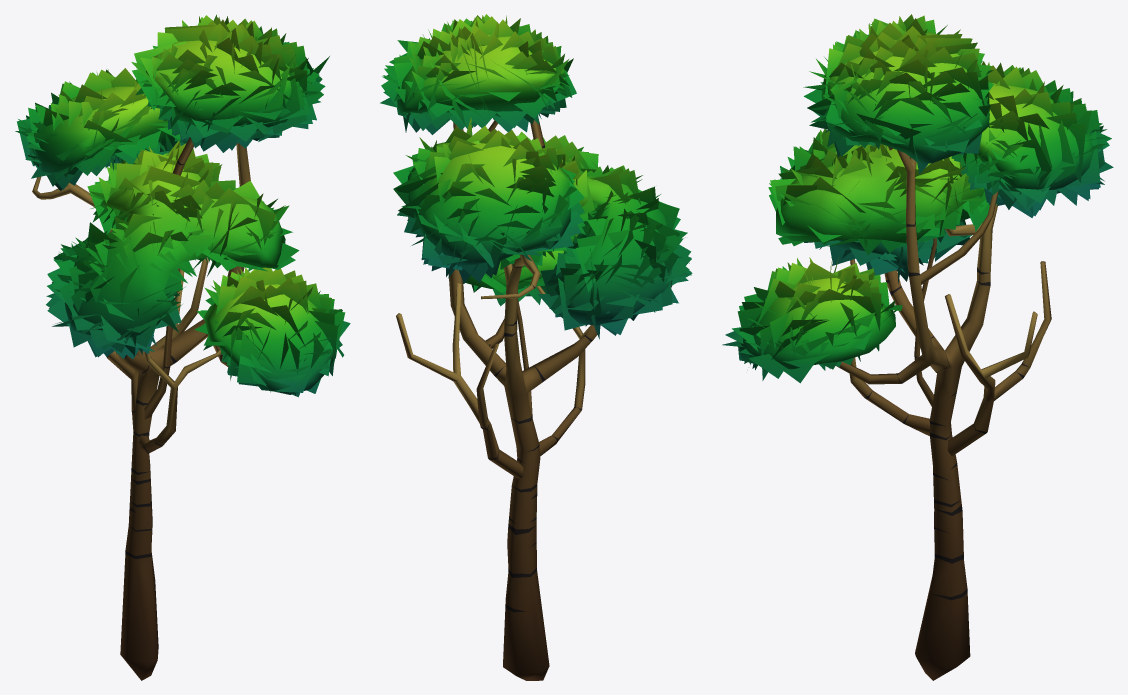
Rendered from Forest_Tree_9E.fbx.
3 renders of one model, left to right at view 1: azimuth 30°, elevation 25°; view 2: azimuth 150°, elevation 25°; view 3: azimuth 270°, elevation 25°, orthographic. The views are drawn at different scales.
Visible parts, largest first — view 1: Forest_Tree_9E; view 2: Forest_Tree_9E; view 3: Forest_Tree_9E.
Part boxes in pixels (x1=…): Forest_Tree_9E: x1=15, y1=14, x2=350, y2=680; Forest_Tree_9E: x1=380, y1=14, x2=692, y2=680; Forest_Tree_9E: x1=722, y1=14, x2=1113, y2=680.
Bounding box in the file's own units: 444 × 972 × 511.
